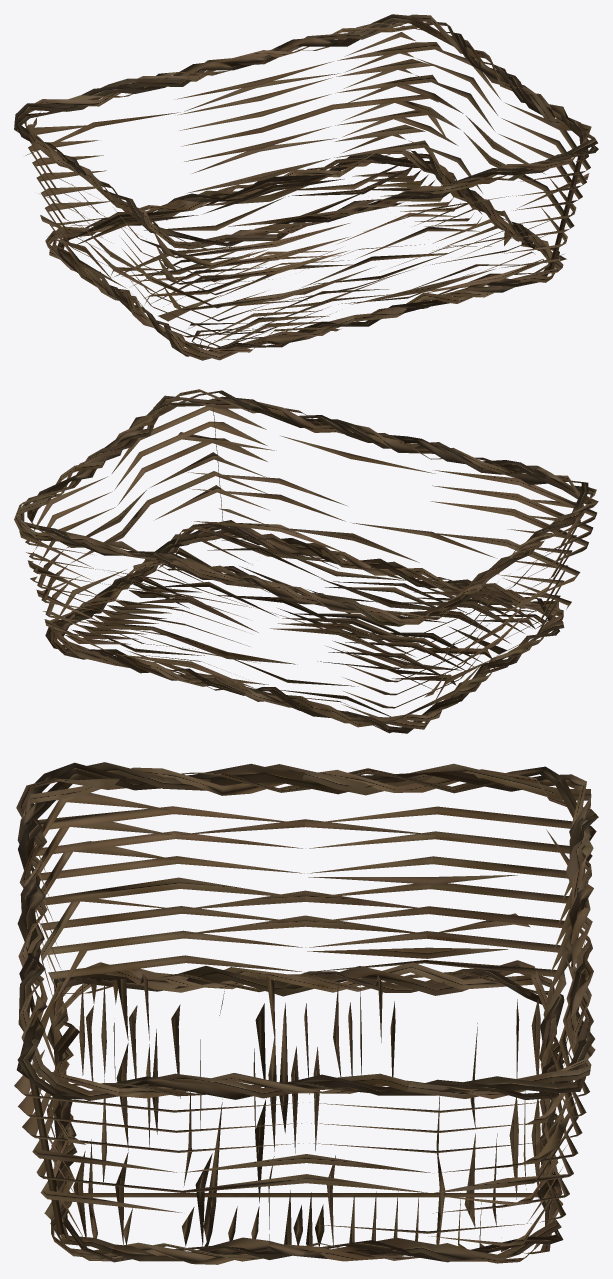
Rendered from wicker_basket_01.lod1.glb.
The picture shows the model from 3 angles, top to bottom: view 1: azimuth 30°, elevation 25°; view 2: azimuth 150°, elevation 25°; view 3: azimuth 270°, elevation 25°; orthographic projection. The views are drawn at different scales.
Parts seen in each view (by area): view 1: wicker_basket_01; view 2: wicker_basket_01; view 3: wicker_basket_01.
Boxes of the visible parts, x1,y1,x2,y2 form: wicker_basket_01: (14,14,598,360); wicker_basket_01: (14,389,598,733); wicker_basket_01: (14,762,598,1264).
Size of the model in its own units: 0.383 by 0.1173 by 0.294.
1 material, 1 textured.
